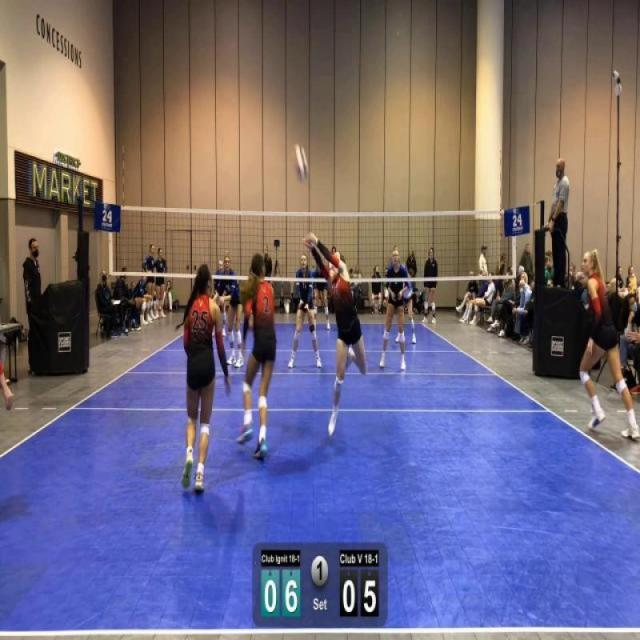volleyball: (292, 140, 310, 187)
